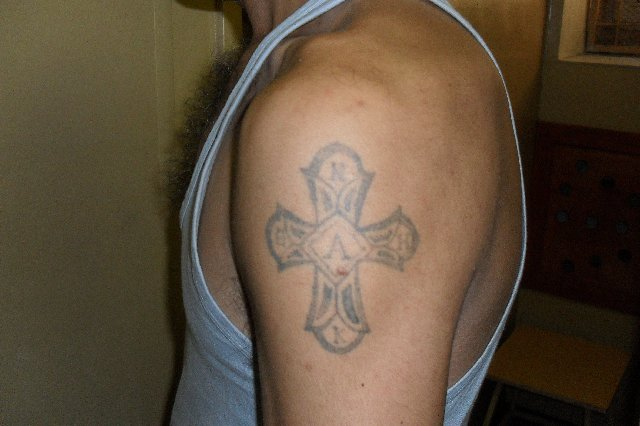tatu3_bukva: (320, 233, 358, 263), (330, 321, 350, 345)
tatu9_krest: (266, 152, 411, 365)
